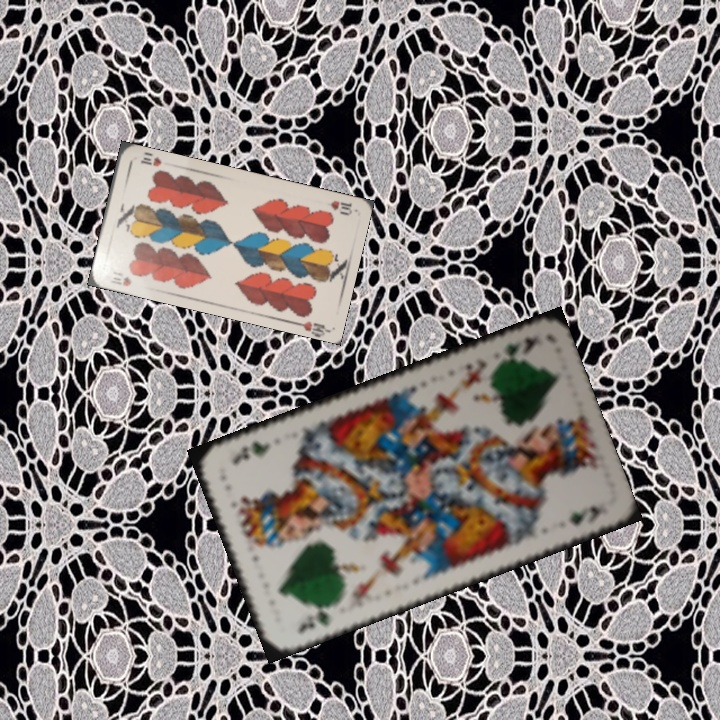GK: (492, 333, 541, 367), (293, 601, 337, 637)
H10: (106, 267, 134, 289), (327, 196, 355, 218)
